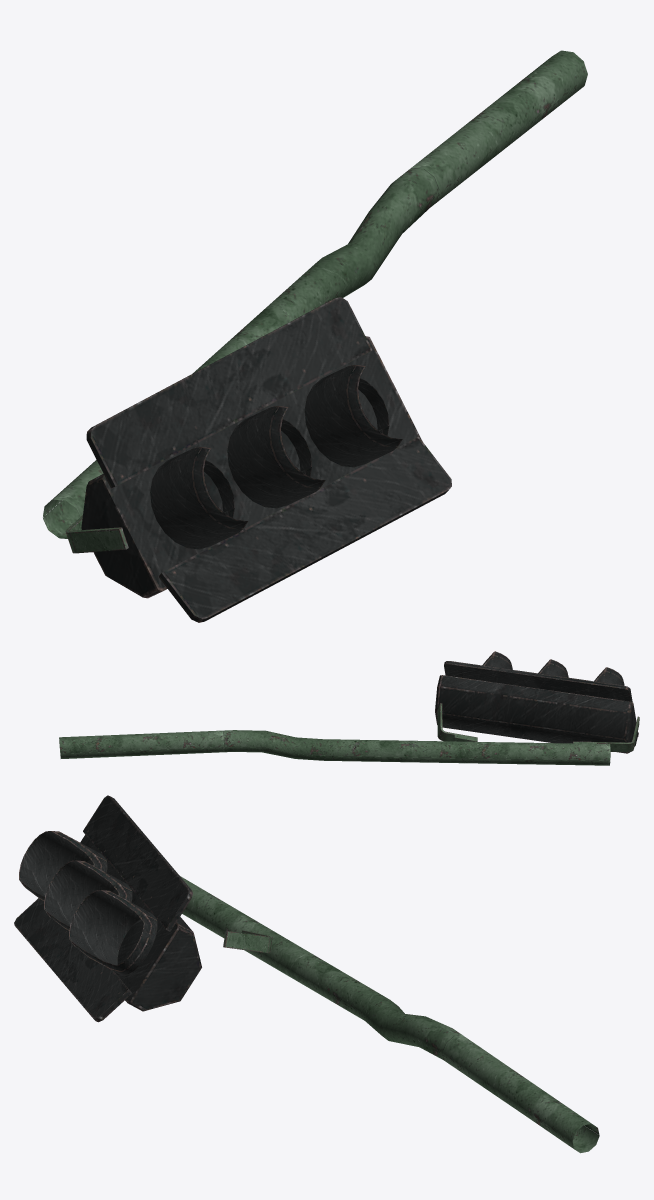
Rendered from Bridge_signal.fbx.
3 renders of one model, top to bottom at view 1: azimuth 30°, elevation 25°; view 2: azimuth 150°, elevation 25°; view 3: azimuth 270°, elevation 25°, orthographic. The views are drawn at different scales.
Visible parts, largest first — view 1: LODGroup_1_MainMesh_1_SubMesh_1; view 2: LODGroup_1_MainMesh_1_SubMesh_1; view 3: LODGroup_1_MainMesh_1_SubMesh_1.
Part boxes in pixels (x1,y1,x2,y2): LODGroup_1_MainMesh_1_SubMesh_1: (43,50,587,622); LODGroup_1_MainMesh_1_SubMesh_1: (59,651,639,765); LODGroup_1_MainMesh_1_SubMesh_1: (14,795,599,1153).
Bounding box in the file's own units: 289 × 52.53 × 231.
